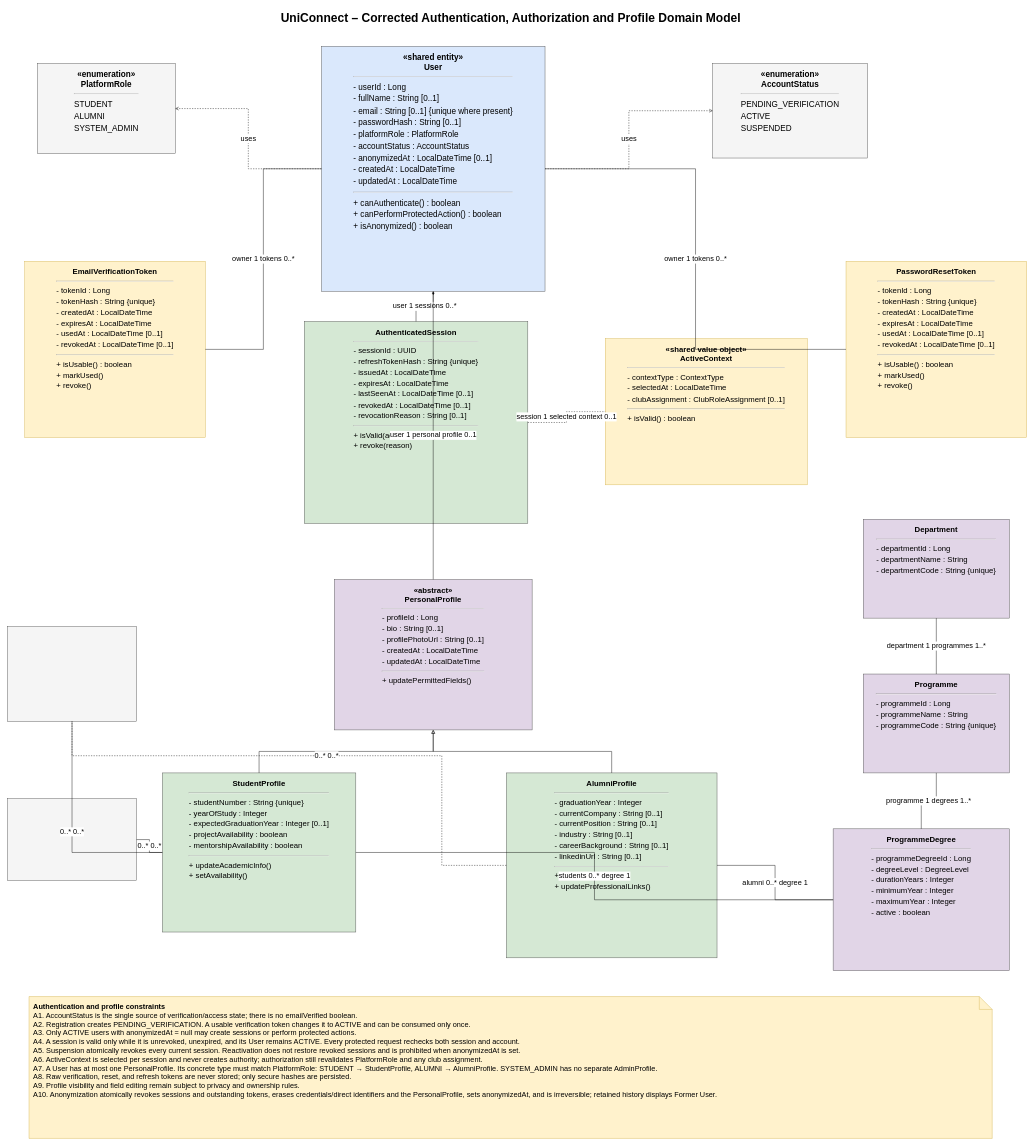
Image size: 1034x1146. Some labels were removed from this diagram. Each missing label, with the box of its shape:
Interest - interestId : Long - interestName : String {unique}: (7, 798, 137, 880)
Skill - skillId : Long - skillName : String {unique} - category : String [0..1]: (7, 626, 137, 721)
